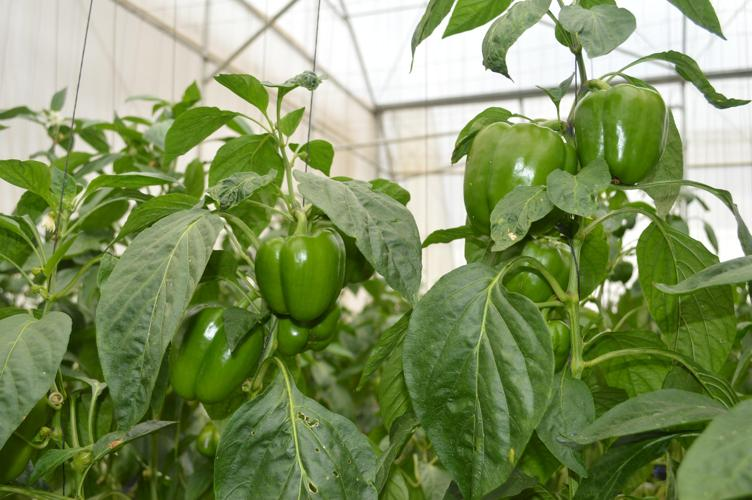BellPepper: (461, 122, 585, 248), (574, 82, 674, 187), (158, 307, 266, 399), (252, 230, 345, 323), (490, 233, 573, 308)
